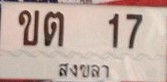txt02: (17, 8, 40, 47)
txt16: (43, 10, 65, 48)
